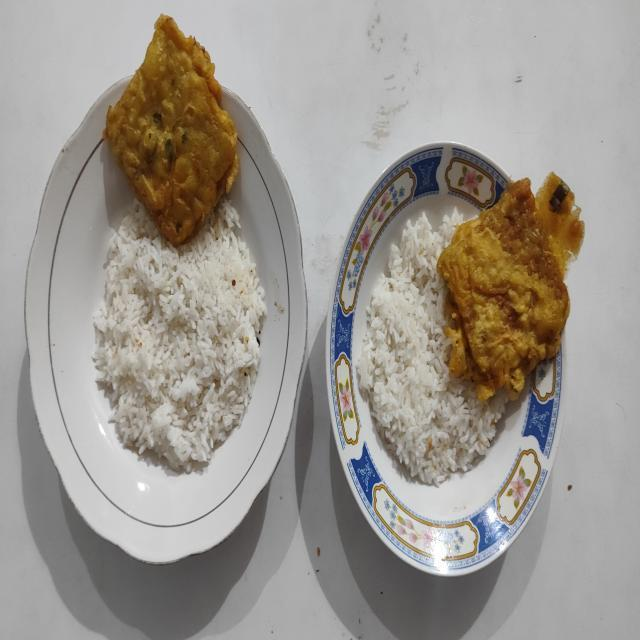nasi_putih: (92, 199, 267, 472), (353, 209, 508, 486)
